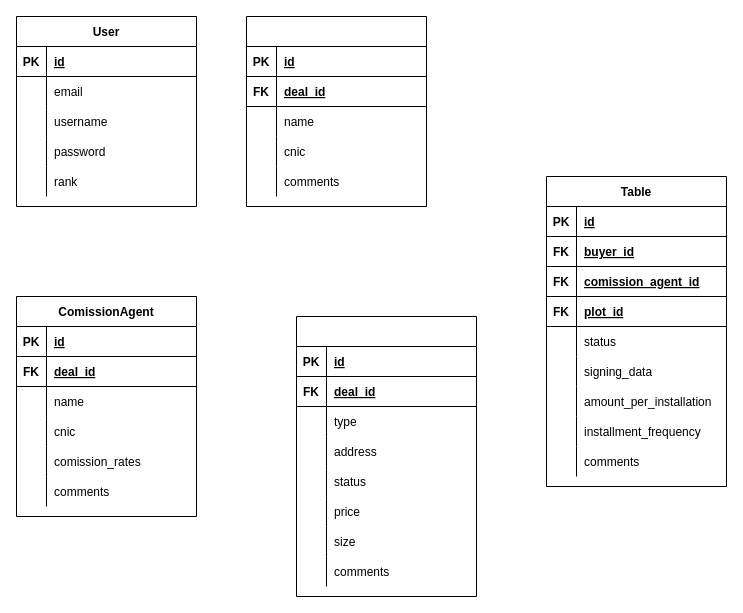
Some shapes in this 743 by 613 pixel diagram are drawn without their labels. The box of each missing label's shape, as (x1, y1, x2, y2) in pixels:
Buyer: (246, 16, 426, 206)
Plot: (296, 316, 476, 596)
